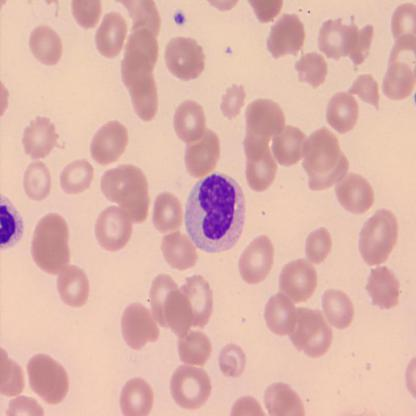Metamyelocyte: (182, 169, 248, 254)
